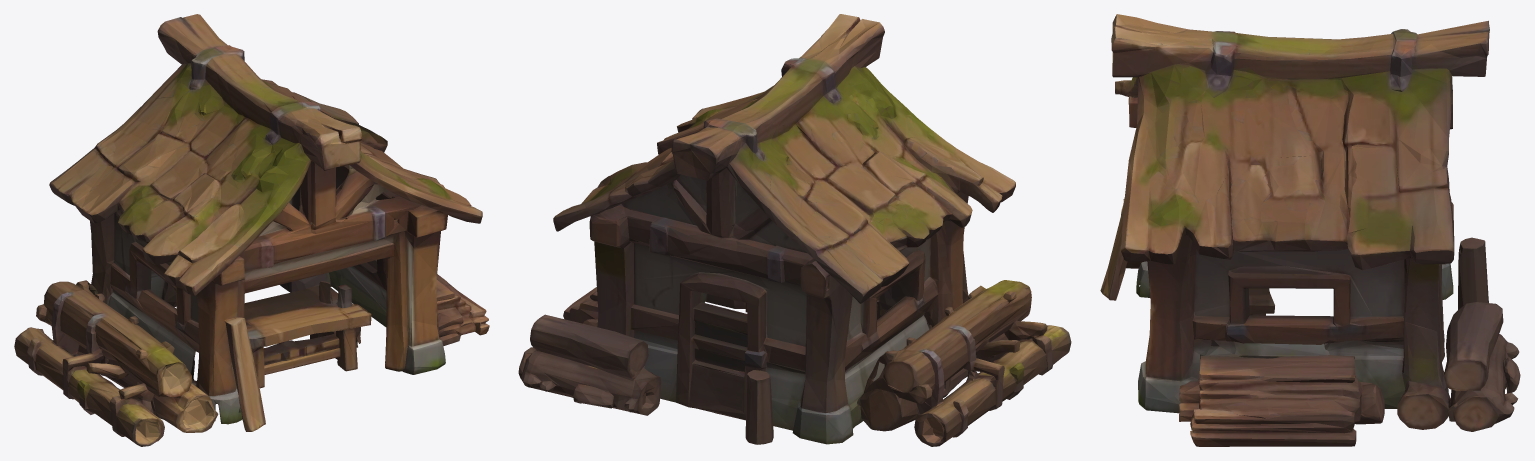
The model's file is workshop.glb.
3 renders of one model, left to right at view 1: azimuth 30°, elevation 25°; view 2: azimuth 150°, elevation 25°; view 3: azimuth 270°, elevation 25°, orthographic. The views are drawn at different scales.
Visible parts, largest first — view 1: world; view 2: world; view 3: world.
Part boxes in pixels (x1,y1,x2,y2): world: (14,14,489,446); world: (518,14,1071,446); world: (1100,14,1520,446).
Size of the model in its own units: 0.998 by 0.6748 by 0.7977.
Materials: 1 (1 with a texture image).
